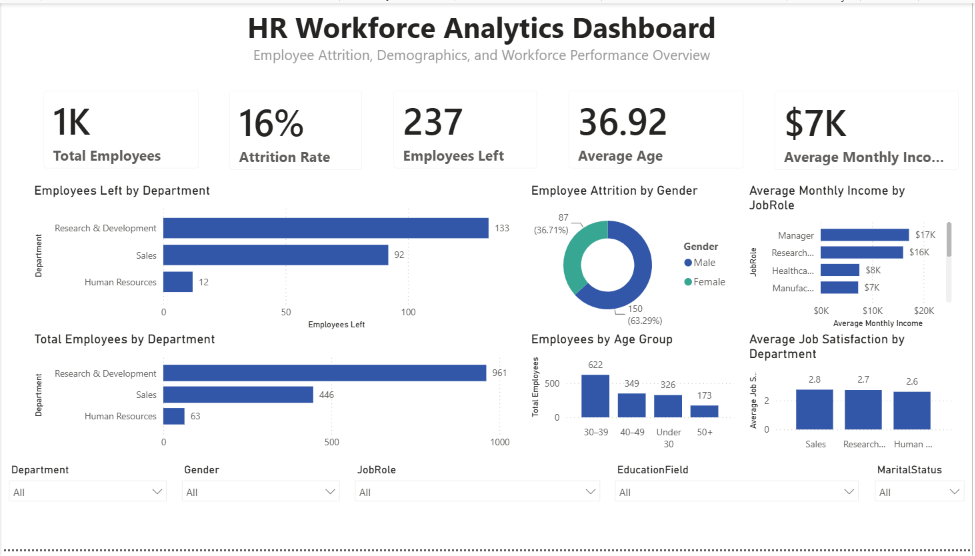

The page's visual inventory and layout, read from the dashboard file:
{"tool":"powerbi","page":{"name":"HR Dashboard","canvas":[1280,720],"ordinal":0},"visuals":[{"type":"textbox","box":[9.4,0,1248.6,101.8],"z":0},{"type":"cardVisual","fields":{"Data":["_Measure.Total Employees"]},"box":[37.7,98.1,239.5,137.7],"z":1000},{"type":"cardVisual","fields":{"Data":["_Measure.Attrition Rate"]},"box":[283.9,98.1,209.4,139.6],"z":2000},{"type":"cardVisual","fields":{"Data":["_Measure.Employees Left"]},"box":[499.8,98.1,224.4,137.7],"z":3000},{"type":"cardVisual","fields":{"Data":["_Measure.Average Monthly Income"]},"box":[1002.7,98.1,277.3,139.6],"z":4000},{"type":"cardVisual","fields":{"Data":["_Measure.Average Age"]},"box":[730.9,98.1,265.9,137.7],"z":5000},{"type":"clusteredBarChart","fields":{"Category":["HR_Employee_Attrition.Department"],"Y":["_Measure.Employees Left"]},"box":[37.7,235.8,646.9,198],"z":6000},{"type":"clusteredBarChart","fields":{"Category":["HR_Employee_Attrition.Department"],"Y":["_Measure.Total Employees"]},"box":[37.7,431.9,646.9,164.1],"z":7000},{"type":"donutChart","title":"Employee Attrition by Gender","fields":{"Category":["HR_Employee_Attrition.Gender"],"Y":["_Measure.Employees Left"]},"box":[694.1,235.8,277.3,198],"z":8000},{"type":"clusteredColumnChart","title":"Employees by Age Group","fields":{"Category":["HR_Employee_Attrition.Age Group"],"Y":["_Measure.Total Employees"]},"box":[694.1,431.9,277.3,164.1],"z":9000},{"type":"clusteredBarChart","fields":{"Category":["HR_Employee_Attrition.JobRole"],"Y":["_Measure.Average Monthly Income"]},"box":[980.8,235.8,277.3,196.2],"z":10000},{"type":"clusteredColumnChart","fields":{"Category":["HR_Employee_Attrition.Department"],"Y":["_Measure.Average Job Satisfaction"]},"box":[980.8,431.9,277.3,164.1],"z":11000},{"type":"slicer","fields":{"Values":["HR_Employee_Attrition.Department"]},"box":[0,601.7,228.2,118.8],"z":12000},{"type":"slicer","fields":{"Values":["HR_Employee_Attrition.Gender"]},"box":[228.2,601.7,228.2,118.8],"z":13000},{"type":"slicer","fields":{"Values":["HR_Employee_Attrition.MaritalStatus"]},"box":[1142.3,601.2,137.7,118.8],"z":14000},{"type":"slicer","fields":{"Values":["HR_Employee_Attrition.EducationField"]},"box":[799.7,601.7,341.4,118.8],"z":15000},{"type":"slicer","fields":{"Values":["HR_Employee_Attrition.JobRole"]},"box":[456.4,601.7,343.3,118.8],"z":16000}]}

Visuals, with their boxes in screenshot pixels (x1, y1, x2, y2), scaled from the page's 1280x720 canvas onto the 975x556 screenshot:
textbox: crop(7, 0, 958, 79)
cardVisual - _Measure.Total Employees: crop(29, 76, 211, 182)
cardVisual - _Measure.Attrition Rate: crop(216, 76, 376, 184)
cardVisual - _Measure.Employees Left: crop(381, 76, 552, 182)
cardVisual - _Measure.Average Monthly Income: crop(764, 76, 974, 184)
cardVisual - _Measure.Average Age: crop(557, 76, 759, 182)
clusteredBarChart - HR_Employee_Attrition.Department x _Measure.Employees Left: crop(29, 182, 521, 335)
clusteredBarChart - HR_Employee_Attrition.Department x _Measure.Total Employees: crop(29, 334, 521, 460)
"Employee Attrition by Gender" donutChart: crop(529, 182, 740, 335)
"Employees by Age Group" clusteredColumnChart: crop(529, 334, 740, 460)
clusteredBarChart - HR_Employee_Attrition.JobRole x _Measure.Average Monthly Income: crop(747, 182, 958, 334)
clusteredColumnChart - HR_Employee_Attrition.Department x _Measure.Average Job Satisfaction: crop(747, 334, 958, 460)
slicer - HR_Employee_Attrition.Department: crop(0, 465, 174, 555)
slicer - HR_Employee_Attrition.Gender: crop(174, 465, 348, 555)
slicer - HR_Employee_Attrition.MaritalStatus: crop(870, 464, 974, 555)
slicer - HR_Employee_Attrition.EducationField: crop(609, 465, 869, 555)
slicer - HR_Employee_Attrition.JobRole: crop(348, 465, 609, 555)
